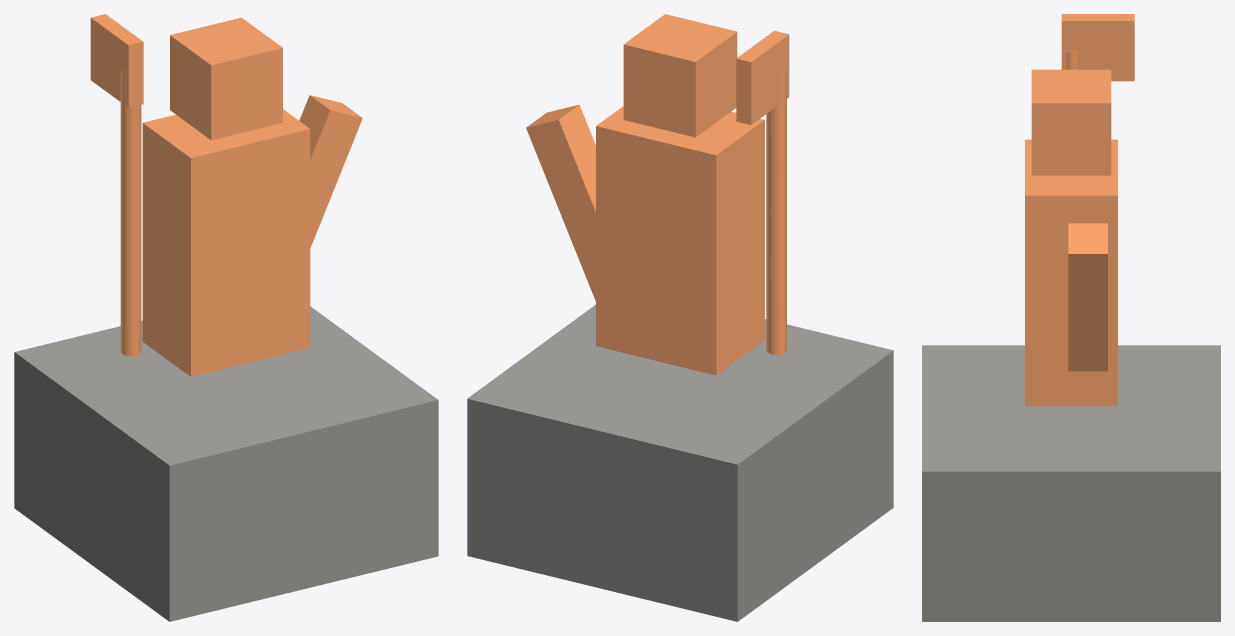
The model's file is build_statue.glb.
3 renders of one model, left to right at view 1: azimuth 30°, elevation 25°; view 2: azimuth 150°, elevation 25°; view 3: azimuth 270°, elevation 25°, orthographic. The views are drawn at different scales.
Parts seen in each view (by area): view 1: Baked; view 2: Baked; view 3: Baked.
Part boxes in pixels (x1,y1,x2,y2): Baked: (14,14,438,621); Baked: (467,14,893,621); Baked: (922,14,1220,621).
Bounding box in the file's own units: 0.9006 × 1.65 × 0.9.
